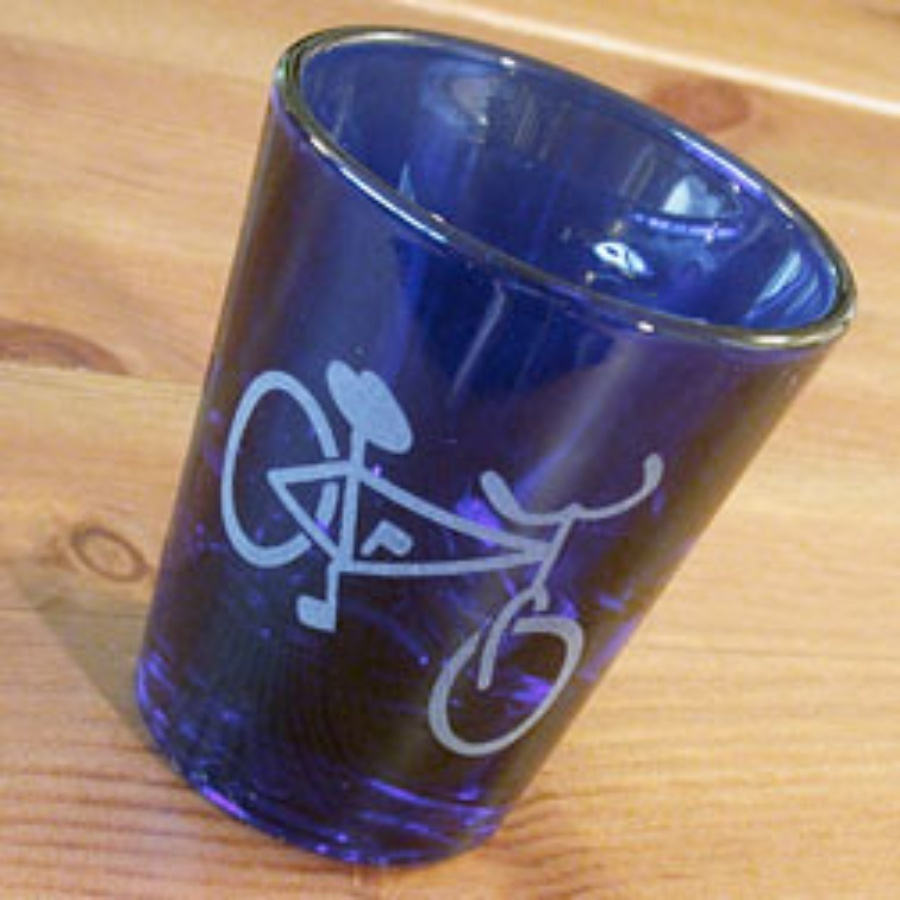whiskey: (120, 46, 838, 837)
